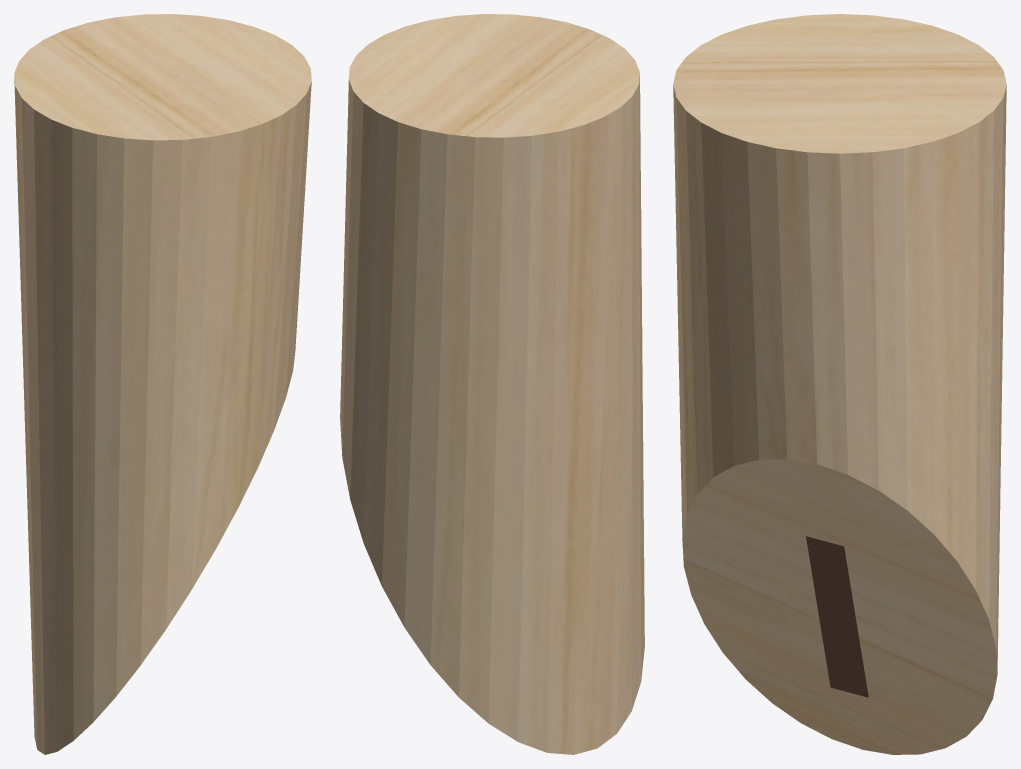
File: pin.glb
The picture shows the model from 3 angles, left to right: view 1: azimuth 30°, elevation 25°; view 2: azimuth 150°, elevation 25°; view 3: azimuth 270°, elevation 25°; orthographic projection. The views are drawn at different scales.
Visible parts, largest first — view 1: 円柱; view 2: 円柱; view 3: 円柱.
Boxes of the visible parts, x1,y1,x2,y2 form: 円柱: (14,14,311,754); 円柱: (340,14,644,754); 円柱: (673,14,1006,754).
Bounding box in the file's own units: 1.16 × 2.8 × 1.16.
Materials: 2 (1 with a texture image).
